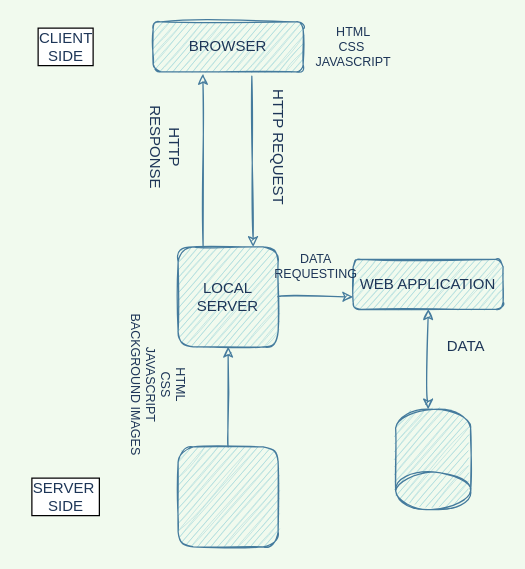
Image size: 525x569. Some labels were removed from this diagram. The shapes that lost their labels are listed below. From the top down, each one's centre as x and y in pixels, then its label:
(x=432, y=458): DATABASE
(x=227, y=496): FILES
